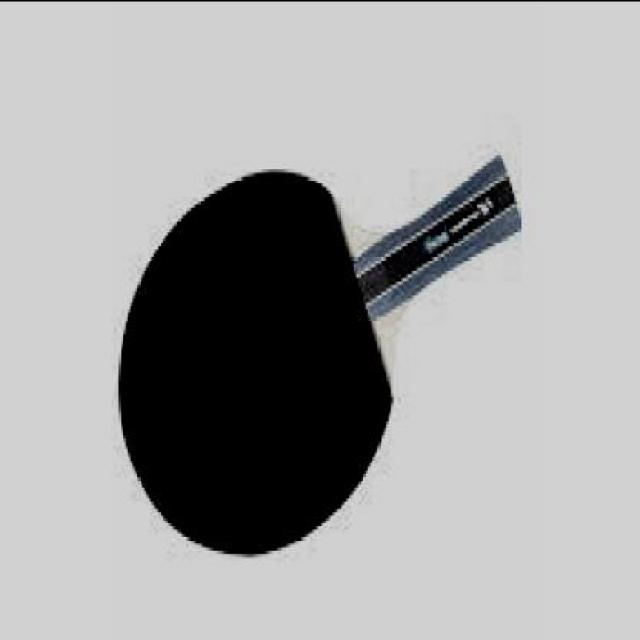table_tennis_racket: (106, 158, 392, 570)
